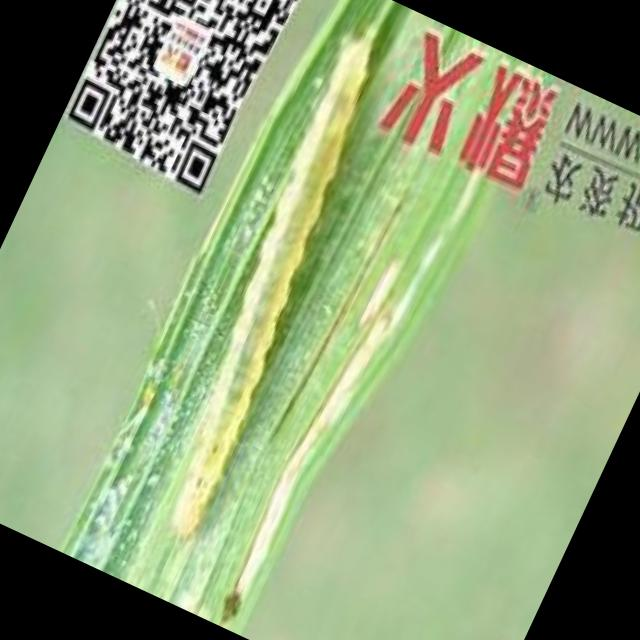leaf-folder: (107, 21, 413, 544)
